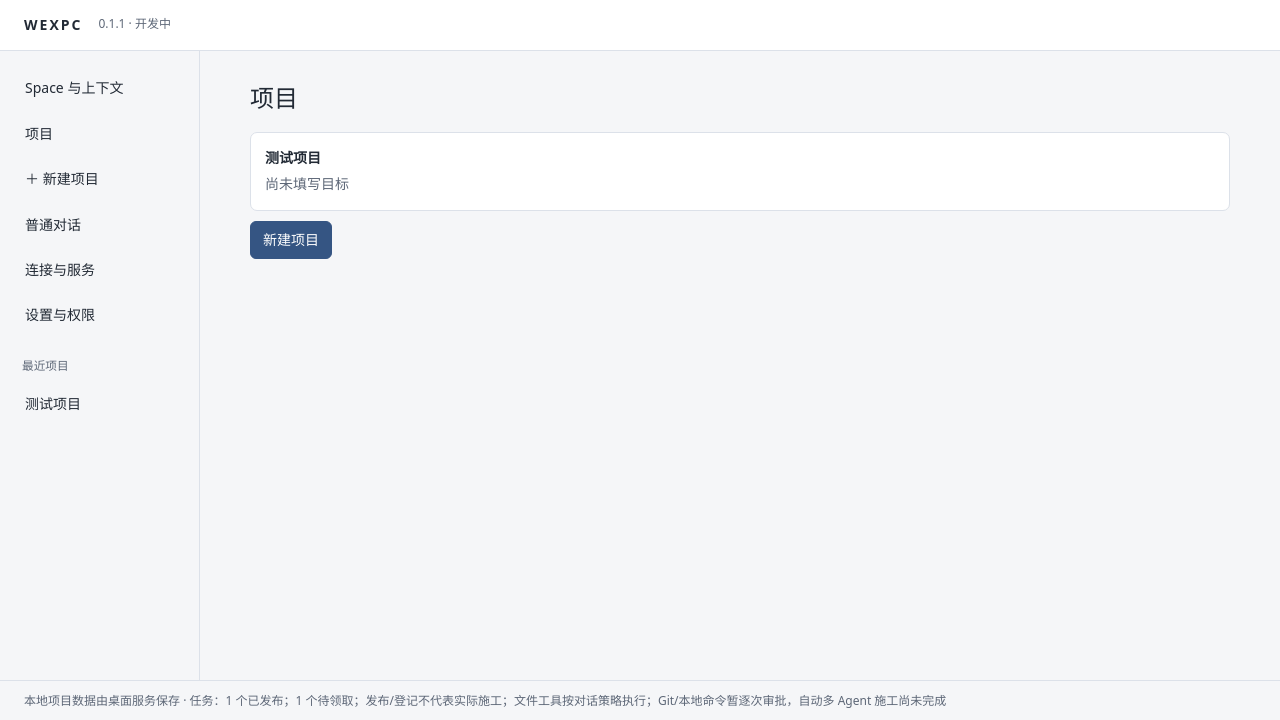
Test: reconciles even a rejected action and keeps a verified snapshot when read succeeds
This screenshot has width=1280, height=720.
Check: the text "1 个待领取" is shown, box [190, 692, 502, 709]
Click the button "连接与服务": (100, 270) [12, 251, 187, 289]
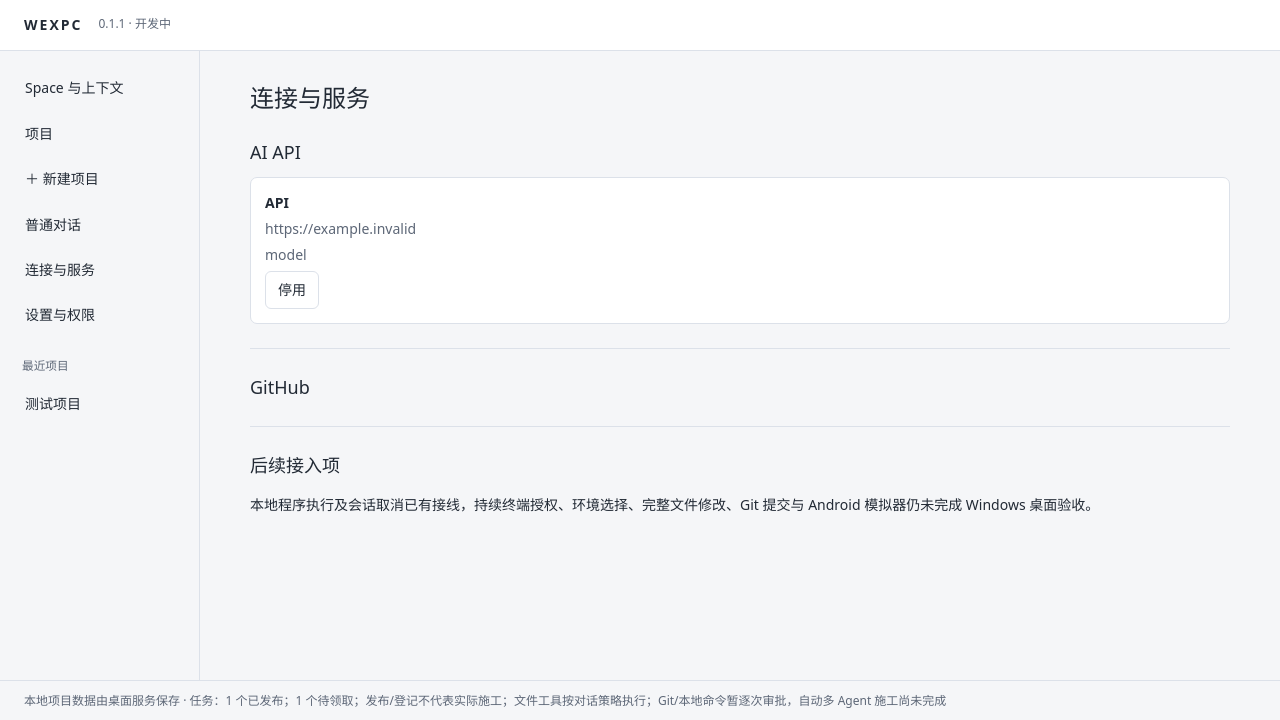
Click the button "停用": (292, 290) [265, 271, 319, 309]
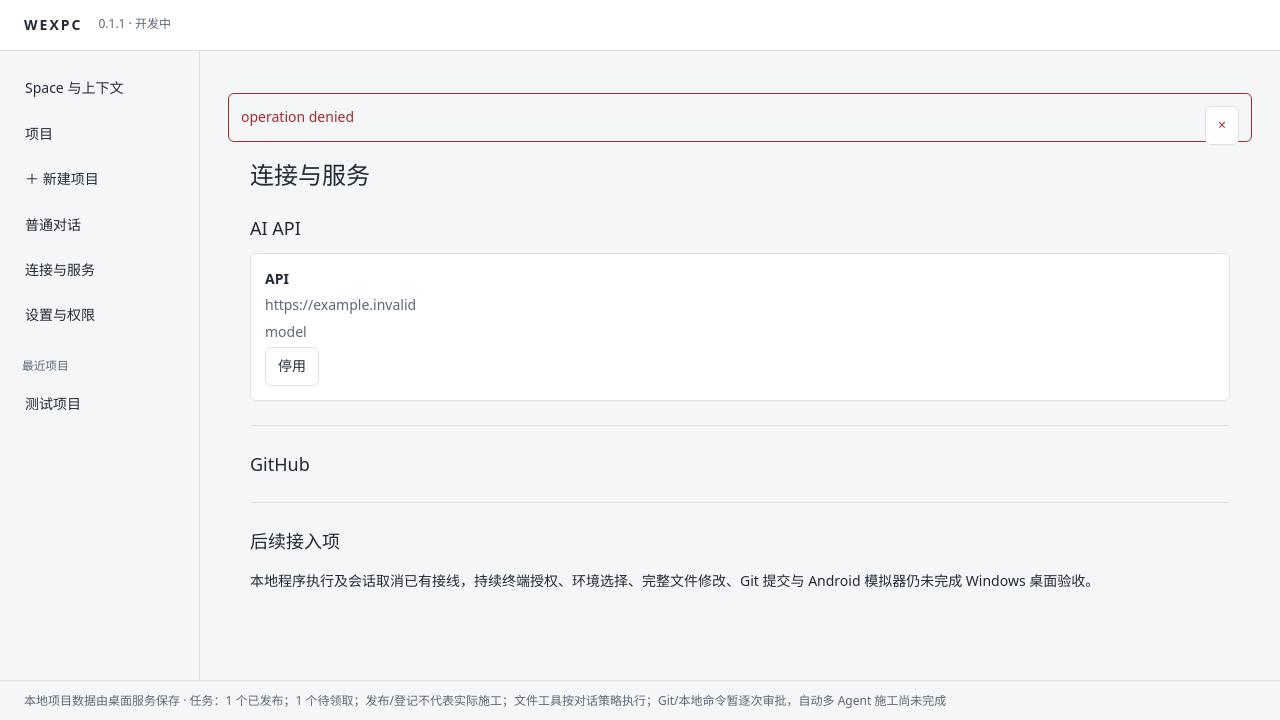
Check: the text "1 个待领取" is shown, box [190, 692, 502, 709]
Check: the text "operation denied ×" is shown, box [228, 93, 1252, 142]
